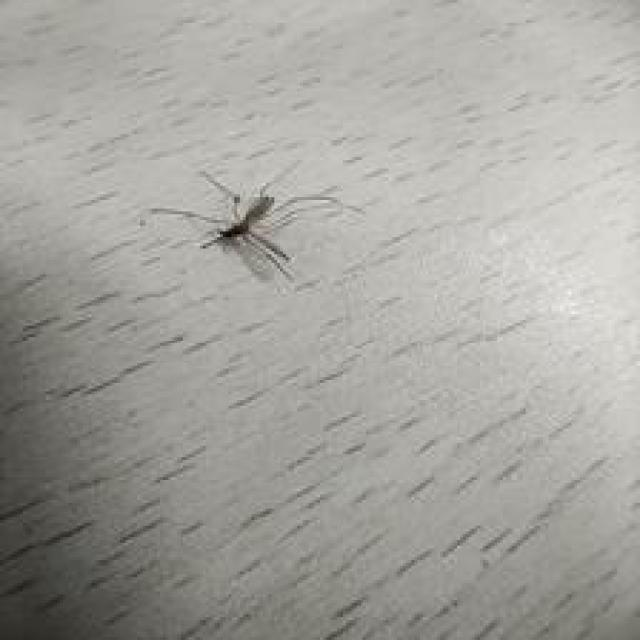Culex: (147, 162, 344, 284)
